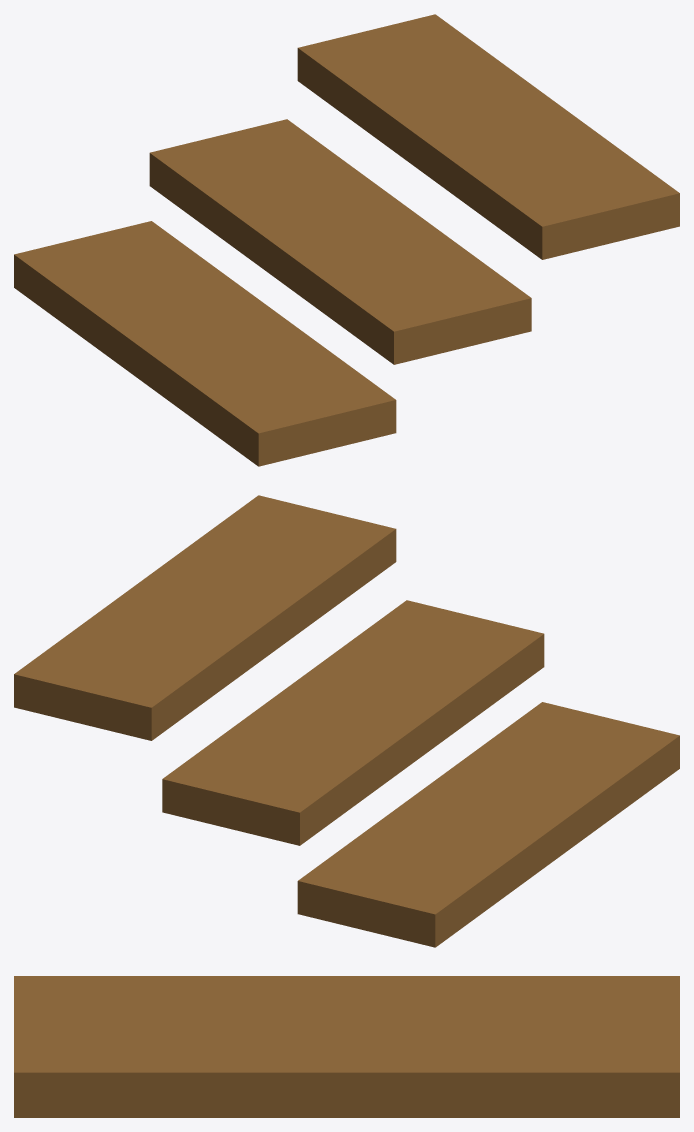
File: wood_deck_01_ramp.glb
The picture shows the model from 3 angles, top to bottom: view 1: azimuth 30°, elevation 25°; view 2: azimuth 150°, elevation 25°; view 3: azimuth 270°, elevation 25°; orthographic projection. The views are drawn at different scales.
Visible parts, largest first — view 1: rural_fence_01_plank.013; view 2: rural_fence_01_plank.013; view 3: rural_fence_01_plank.013.
Boxes of the visible parts, x1=… form: rural_fence_01_plank.013: x1=14, y1=14, x2=679, y2=466; rural_fence_01_plank.013: x1=14, y1=495, x2=679, y2=947; rural_fence_01_plank.013: x1=14, y1=976, x2=679, y2=1117.
Bounding box in the file's own units: 1.99 × 0.77 × 2.
